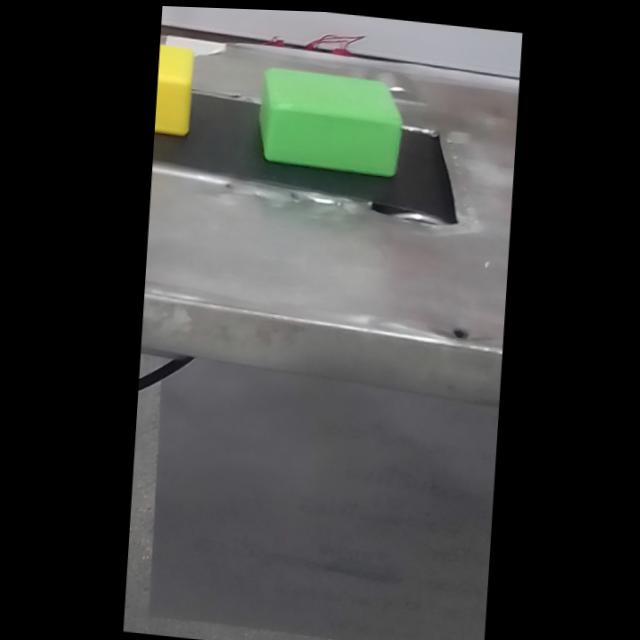greenBox: (246, 43, 426, 189)
yellowBox: (154, 28, 212, 141)
